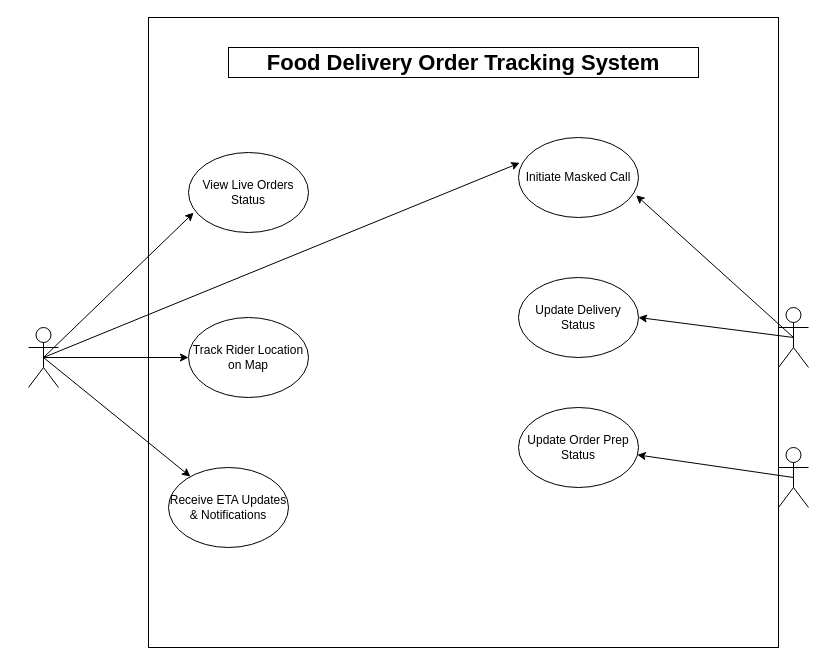
The diagram is 840 pixels wide and 665 high, and some of its shapes have lost their labels. Each missing label, with the box of its shape:
Customer: (28, 326, 58, 388)
Restaurant: (778, 446, 808, 508)
Rider: (778, 306, 808, 368)
